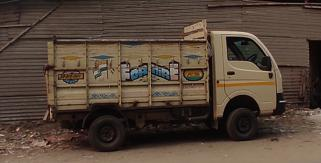Truck: (44, 22, 286, 153)
